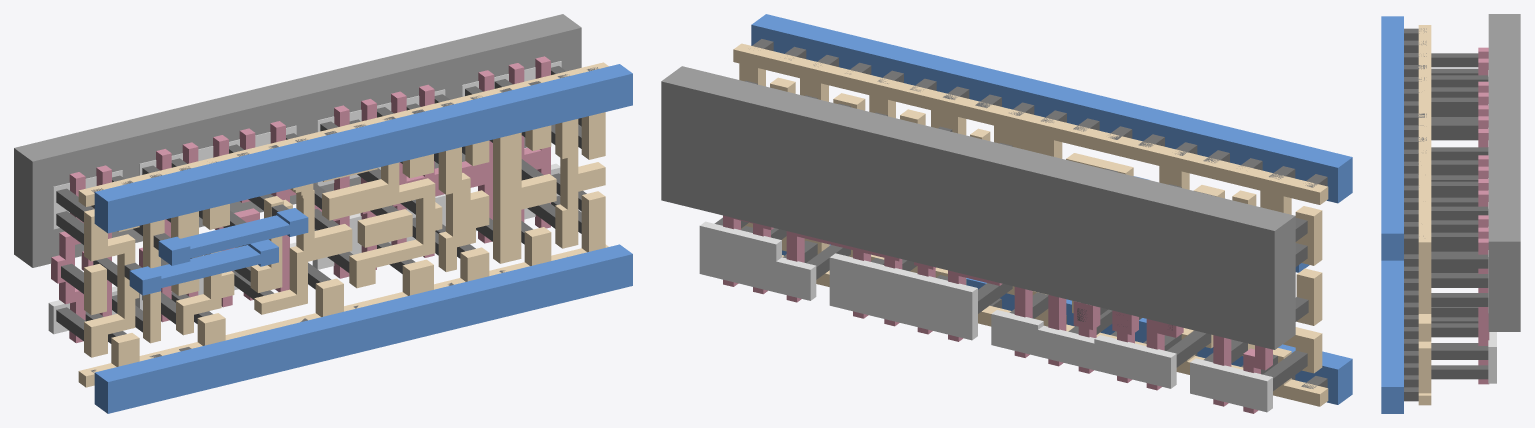
File: sky130_fd_sc_hd__dlrbp_2.gds.gltf
3 views of the same model, side by side, from view 1: azimuth 30°, elevation 25°; view 2: azimuth 150°, elevation 25°; view 3: azimuth 270°, elevation 25° (orthographic). The views are drawn at different scales.
Parts seen in each view (by area): view 1: sky130_fd_sc_hd__dlrbp_2_met1, sky130_fd_sc_hd__dlrbp_2_li1, sky130_fd_sc_hd__dlrbp_2_nwell, sky130_fd_sc_hd__dlrbp_2_poly, sky130_fd_sc_hd__dlrbp_2_licon, sky130_fd_sc_hd__dlrbp_2_diff, sky130_fd_sc_hd__dlrbp_2_mcon; view 2: sky130_fd_sc_hd__dlrbp_2_nwell, sky130_fd_sc_hd__dlrbp_2_li1, sky130_fd_sc_hd__dlrbp_2_diff, sky130_fd_sc_hd__dlrbp_2_met1, sky130_fd_sc_hd__dlrbp_2_poly, sky130_fd_sc_hd__dlrbp_2_licon, sky130_fd_sc_hd__dlrbp_2_mcon; view 3: sky130_fd_sc_hd__dlrbp_2_licon, sky130_fd_sc_hd__dlrbp_2_nwell, sky130_fd_sc_hd__dlrbp_2_met1, sky130_fd_sc_hd__dlrbp_2_mcon, sky130_fd_sc_hd__dlrbp_2_li1, sky130_fd_sc_hd__dlrbp_2_poly, sky130_fd_sc_hd__dlrbp_2_diff.
Part boxes in pixels (bbox=[...]): sky130_fd_sc_hd__dlrbp_2_met1: bbox=[94, 64, 632, 413]; sky130_fd_sc_hd__dlrbp_2_li1: bbox=[78, 62, 608, 387]; sky130_fd_sc_hd__dlrbp_2_nwell: bbox=[14, 14, 581, 267]; sky130_fd_sc_hd__dlrbp_2_poly: bbox=[51, 56, 550, 343]; sky130_fd_sc_hd__dlrbp_2_licon: bbox=[56, 66, 586, 343]; sky130_fd_sc_hd__dlrbp_2_diff: bbox=[48, 61, 561, 334]; sky130_fd_sc_hd__dlrbp_2_mcon: bbox=[91, 67, 598, 373]; sky130_fd_sc_hd__dlrbp_2_nwell: bbox=[661, 66, 1295, 349]; sky130_fd_sc_hd__dlrbp_2_li1: bbox=[733, 43, 1328, 406]; sky130_fd_sc_hd__dlrbp_2_diff: bbox=[699, 221, 1272, 412]; sky130_fd_sc_hd__dlrbp_2_met1: bbox=[751, 14, 1352, 404]; sky130_fd_sc_hd__dlrbp_2_poly: bbox=[723, 215, 1272, 413]; sky130_fd_sc_hd__dlrbp_2_licon: bbox=[714, 80, 1308, 390]; sky130_fd_sc_hd__dlrbp_2_mcon: bbox=[752, 39, 1327, 388]; sky130_fd_sc_hd__dlrbp_2_licon: bbox=[1431, 53, 1488, 379]; sky130_fd_sc_hd__dlrbp_2_nwell: bbox=[1488, 14, 1520, 331]; sky130_fd_sc_hd__dlrbp_2_met1: bbox=[1381, 16, 1403, 413]; sky130_fd_sc_hd__dlrbp_2_mcon: bbox=[1404, 28, 1426, 401]; sky130_fd_sc_hd__dlrbp_2_li1: bbox=[1418, 25, 1431, 405]; sky130_fd_sc_hd__dlrbp_2_poly: bbox=[1478, 47, 1489, 384]; sky130_fd_sc_hd__dlrbp_2_diff: bbox=[1488, 70, 1496, 383].
Bounding box in the file's own units: 8.66 × 3.2 × 2.24.
